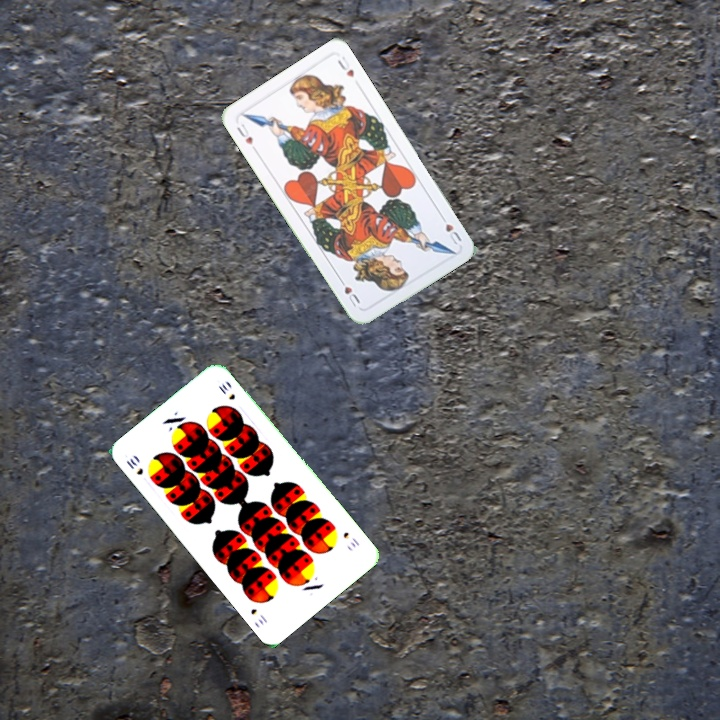HU: (436, 211, 464, 247), (233, 119, 259, 154)
S10: (122, 454, 146, 478), (339, 528, 362, 550)
